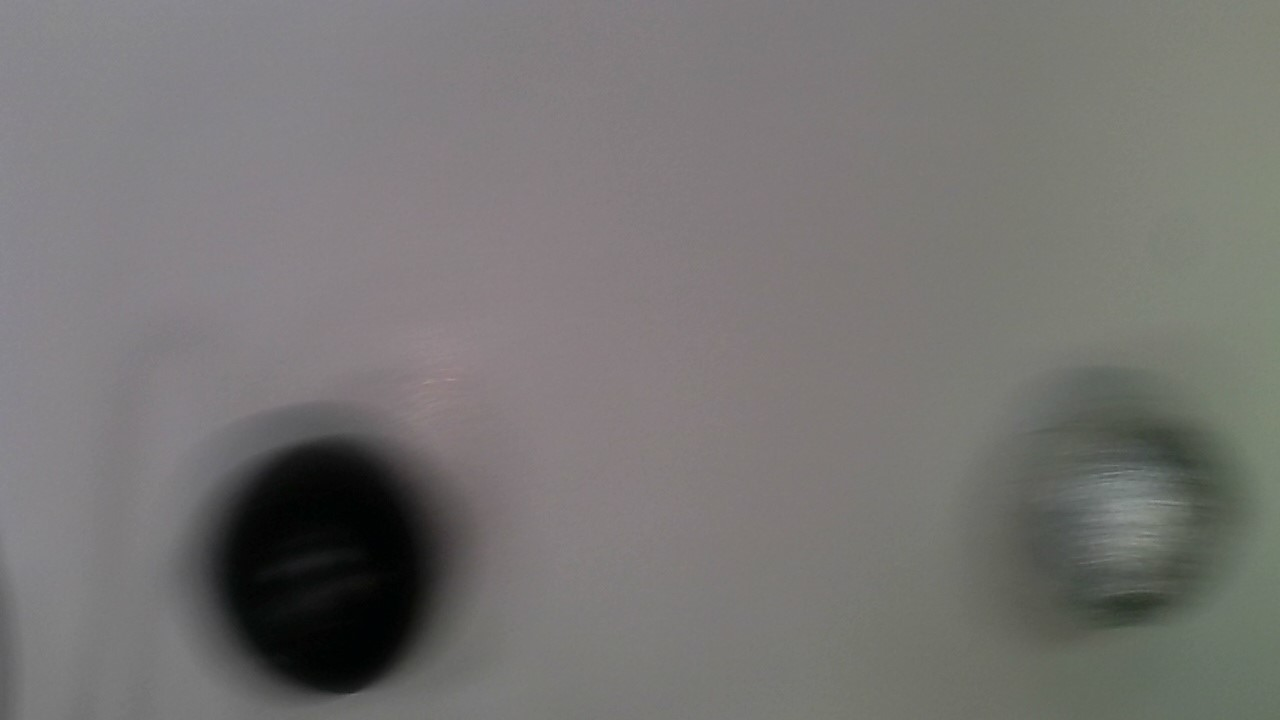black_ball: (195, 420, 449, 707)
silver_ball: (981, 394, 1235, 633)
